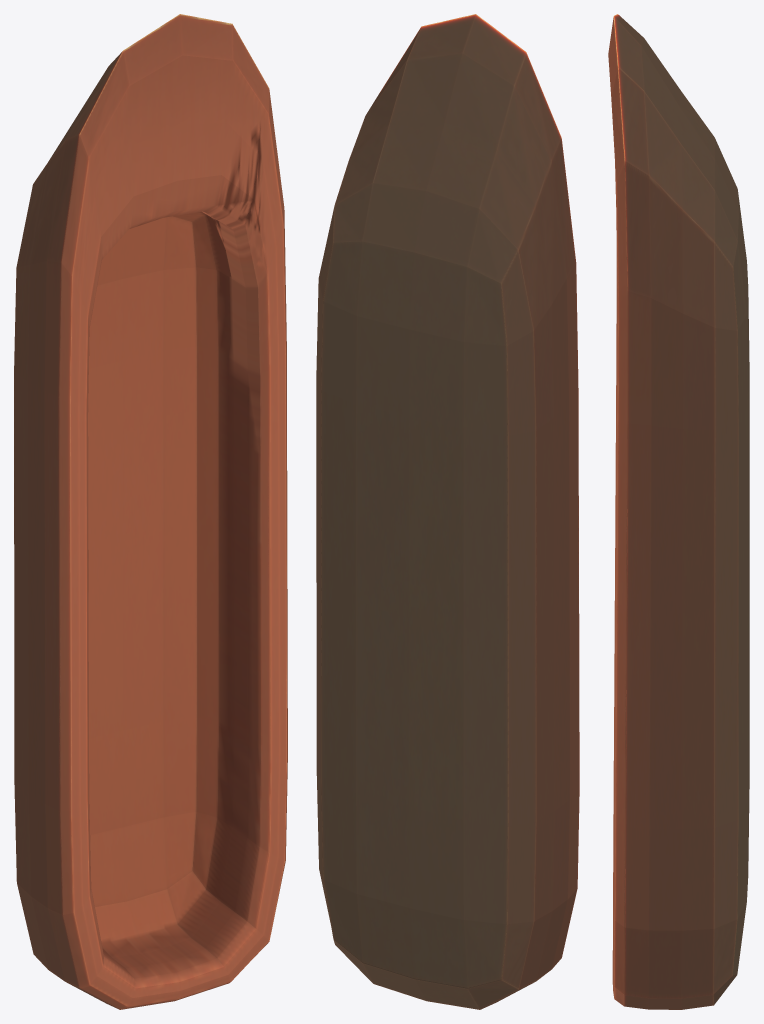
The model's file is boat.gltf.
3 views of the same model, side by side, from view 1: azimuth 30°, elevation 25°; view 2: azimuth 150°, elevation 25°; view 3: azimuth 270°, elevation 25° (orthographic). The views are drawn at different scales.
Parts seen in each view (by area): view 1: Boat; view 2: Boat; view 3: Boat.
Part boxes in pixels (left/top/right/bottom): Boat: left=14, top=14, right=287, bottom=1009; Boat: left=316, top=14, right=579, bottom=1009; Boat: left=608, top=14, right=749, bottom=1009.
Bounding box in the file's own units: 0.25 × 1.02 × 0.1343.
1 material, 1 textured.
